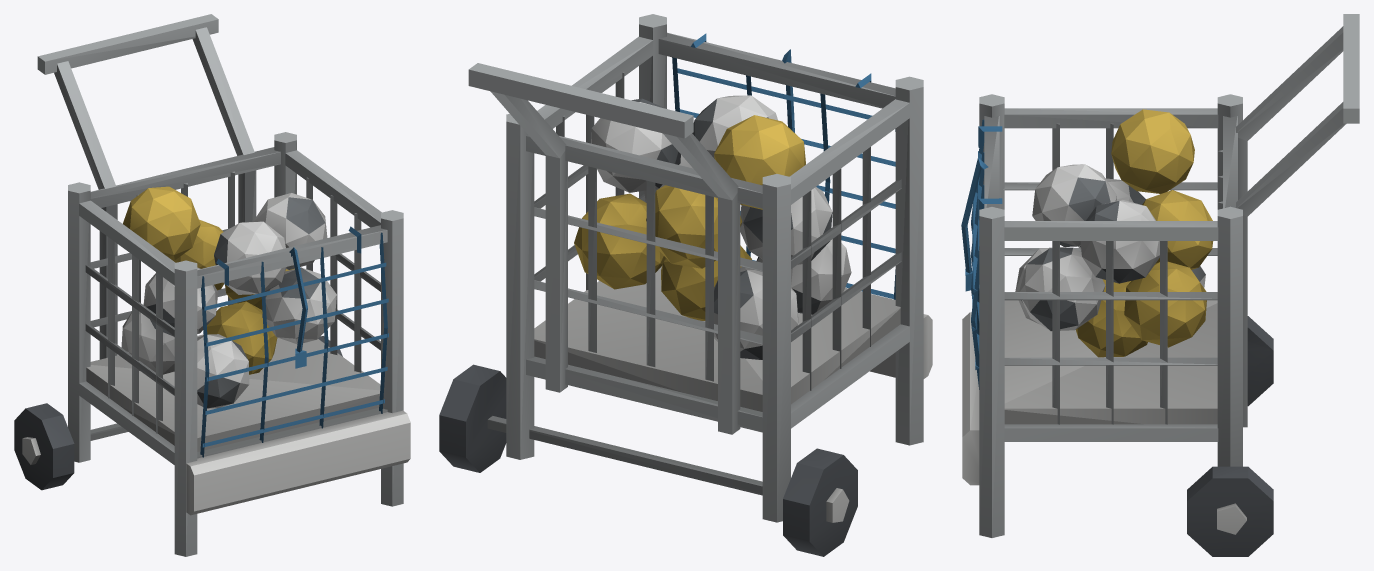
The model's file is ballcart.glb.
3 renders of one model, left to right at view 1: azimuth 30°, elevation 25°; view 2: azimuth 150°, elevation 25°; view 3: azimuth 270°, elevation 25°, orthographic. The views are drawn at different scales.
Parts seen in each view (by area): view 1: ballcart; view 2: ballcart; view 3: ballcart.
Boxes of the visible parts, x1,y1,x2,y2 form: ballcart: (14,14,410,556); ballcart: (439,14,932,556); ballcart: (961,14,1359,556).
Size of the model in its own units: 1.2 by 1.38 by 1.2.
